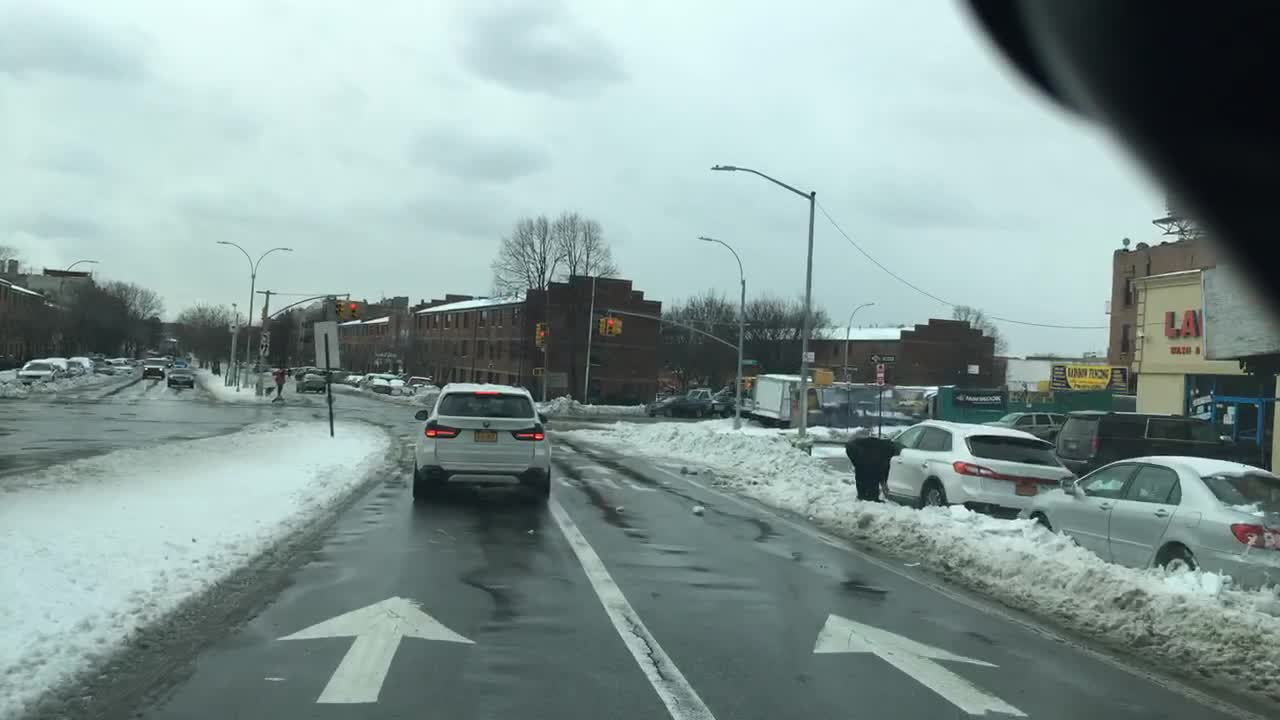car: (1016, 454, 1278, 589), (876, 417, 1071, 509), (409, 380, 552, 500), (1054, 411, 1241, 472), (982, 408, 1060, 440), (14, 357, 60, 380), (295, 370, 325, 391), (162, 368, 197, 386), (140, 356, 165, 379), (368, 377, 389, 396), (91, 359, 114, 374), (361, 371, 389, 383), (113, 354, 137, 368), (65, 359, 85, 374), (42, 356, 67, 368), (334, 368, 349, 385), (294, 359, 306, 379), (411, 374, 432, 383), (73, 356, 91, 365), (392, 377, 404, 390), (346, 374, 364, 382), (173, 359, 186, 370), (165, 354, 169, 368)
person: (844, 436, 902, 497), (271, 366, 285, 399), (285, 365, 292, 379)
traffic light: (813, 368, 834, 386), (334, 297, 346, 320), (613, 319, 626, 339), (536, 322, 547, 340), (596, 317, 607, 334), (349, 300, 358, 319), (606, 316, 613, 337)
traffic sign: (312, 319, 340, 368), (871, 353, 890, 388), (257, 329, 268, 355), (742, 357, 758, 365), (804, 351, 814, 363)
truck: (751, 374, 845, 417), (644, 388, 715, 417), (708, 379, 750, 414), (877, 383, 948, 403)
